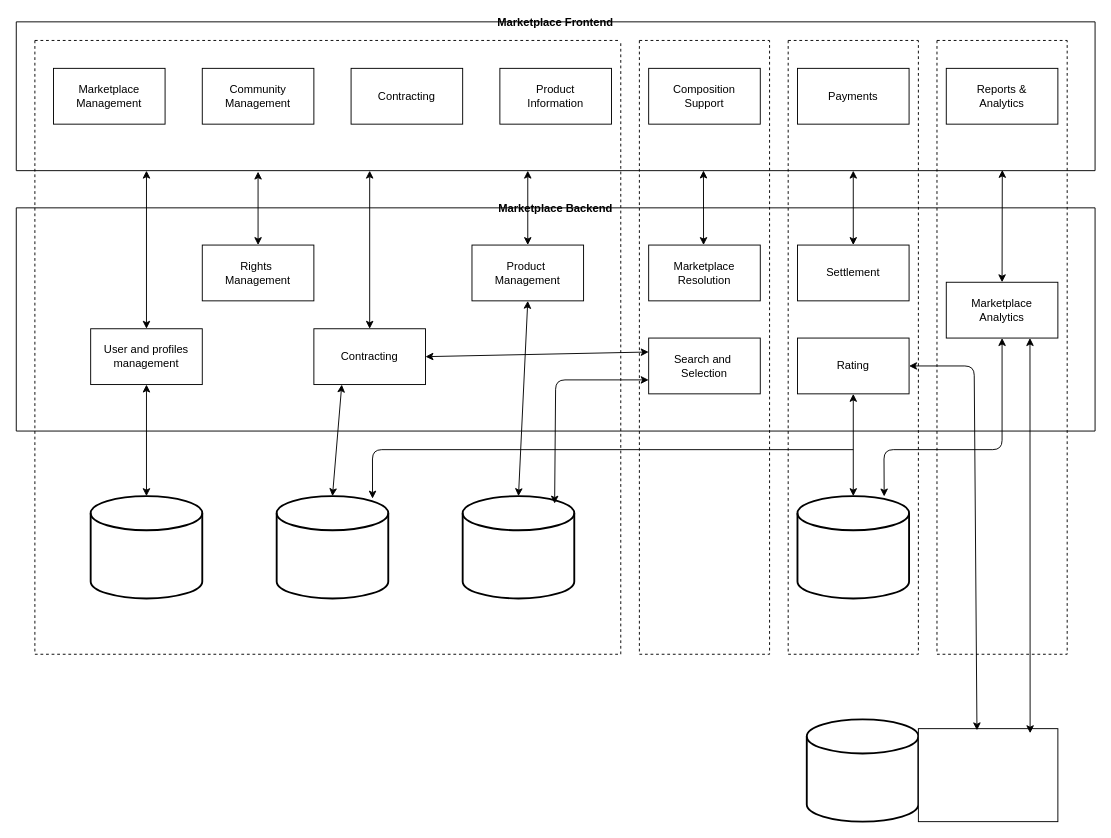
The diagram is 1111 pixels wide and 838 high, and some of its shapes have lost their labels. Here are the shapes that lost their labels. From the top down, the centre of each, then its label:
the point at 146,547: Marketplace Configuration
the point at 332,547: Contracts
the point at 518,547: Product Catalogue
the point at 853,547: Change and Settlement
the point at 862,770: Accounting & Marketplace
the point at 987,775: Accounting & Monitoring
